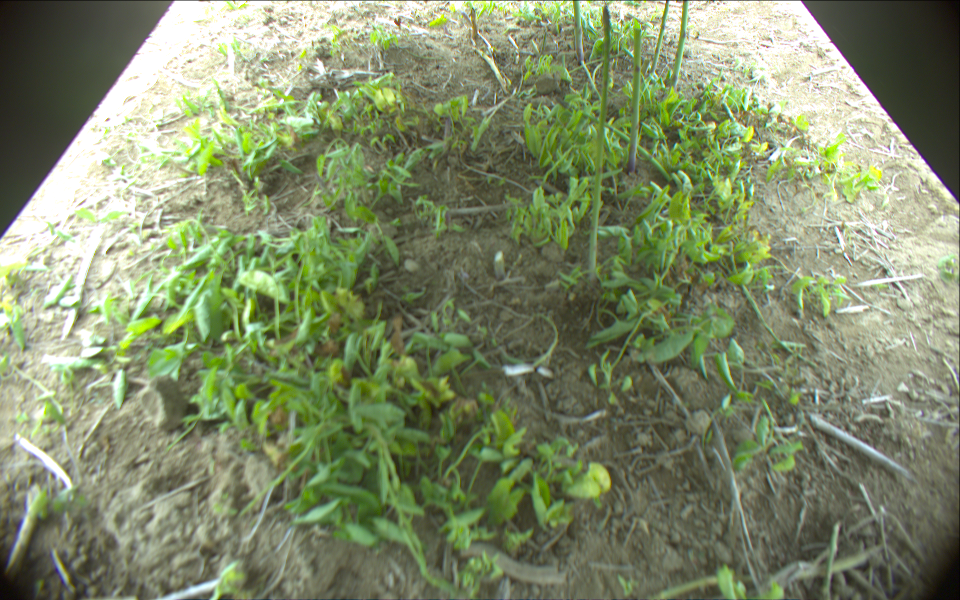aspa: (589, 5, 611, 289), (626, 22, 644, 172), (670, 1, 690, 87), (649, 1, 669, 74), (572, 1, 586, 61)
